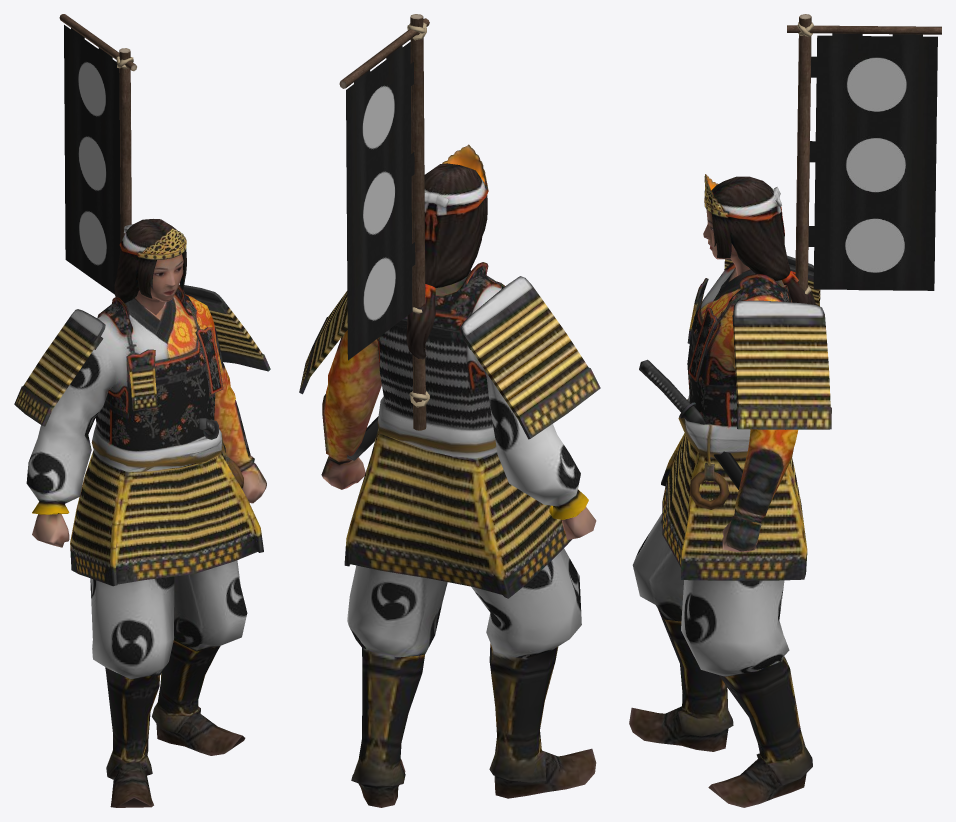
Rendered from body-elitedojosoldiers.glb.
3 renders of one model, left to right at view 1: azimuth 30°, elevation 25°; view 2: azimuth 150°, elevation 25°; view 3: azimuth 270°, elevation 25°, orthographic. The views are drawn at different scales.
Bounding box in the file's own units: 0.9207 × 2.58 × 0.976.
Materials: 3 (3 with a texture image).
